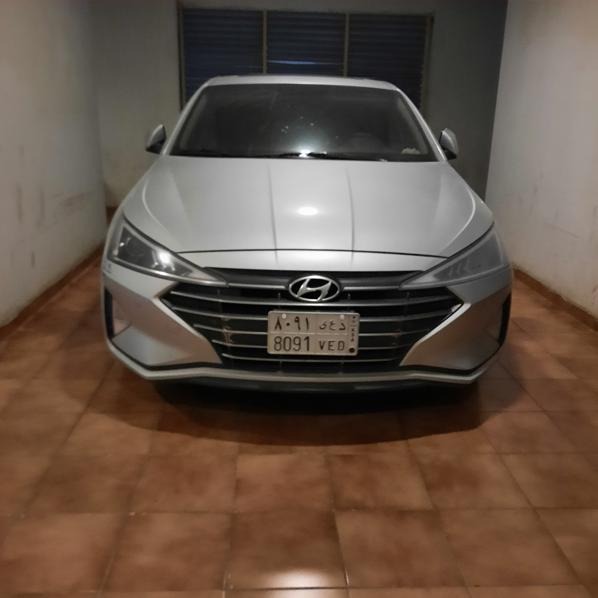numberplate: (268, 312, 359, 356)
